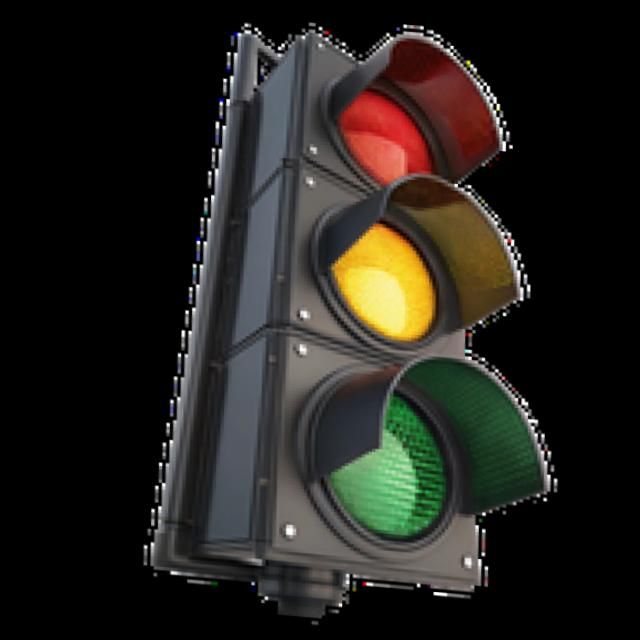green_light: (263, 343, 540, 581)
red_light: (245, 20, 555, 206)
yellow_light: (264, 167, 514, 352)
